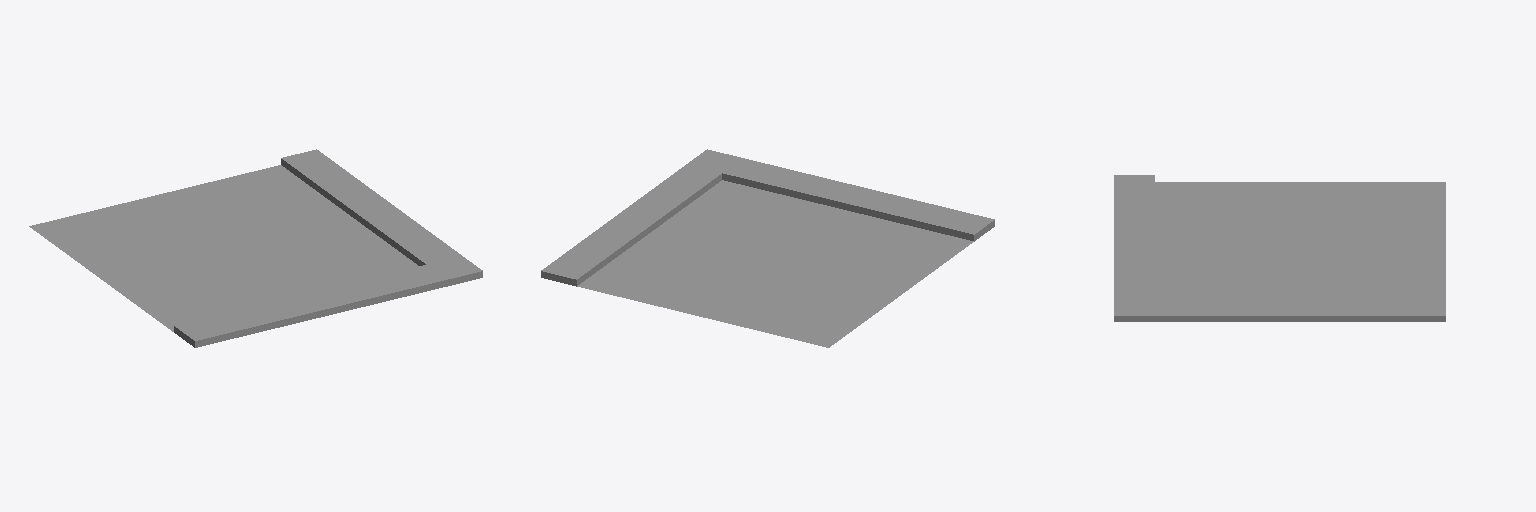
File: actualcorner.obj
The picture shows the model from 3 angles: view 1: azimuth 30°, elevation 25°; view 2: azimuth 150°, elevation 25°; view 3: azimuth 270°, elevation 25°; orthographic projection.
Parts seen in each view (by area): view 1: Cube; view 2: Cube; view 3: Cube.
Boxes of the visible parts, <box> form: Cube: <box>29,149,482,347</box>; Cube: <box>541,149,994,347</box>; Cube: <box>1114,175,1445,321</box>.
Size of the model in its own units: 3.6 by 0.2562 by 3.6.